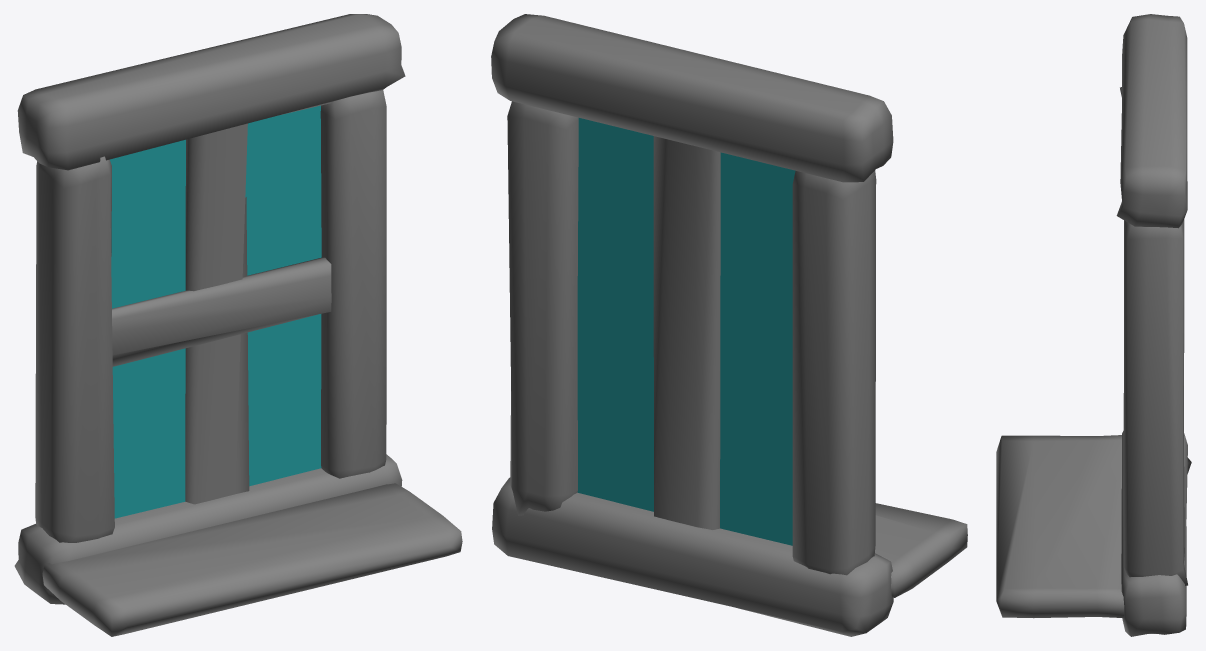
File: SM_window_05.fbx
The picture shows the model from 3 angles, left to right: view 1: azimuth 30°, elevation 25°; view 2: azimuth 150°, elevation 25°; view 3: azimuth 270°, elevation 25°; orthographic projection. The views are drawn at different scales.
Visible parts, largest first — view 1: Object342445; view 2: Object342445; view 3: Object342445.
Boxes of the visible parts, x1,y1,x2,y2 form: Object342445: (14, 14, 462, 636); Object342445: (491, 14, 967, 636); Object342445: (996, 14, 1191, 636).
Size of the model in its own units: 36.86 by 48.95 by 18.52.
